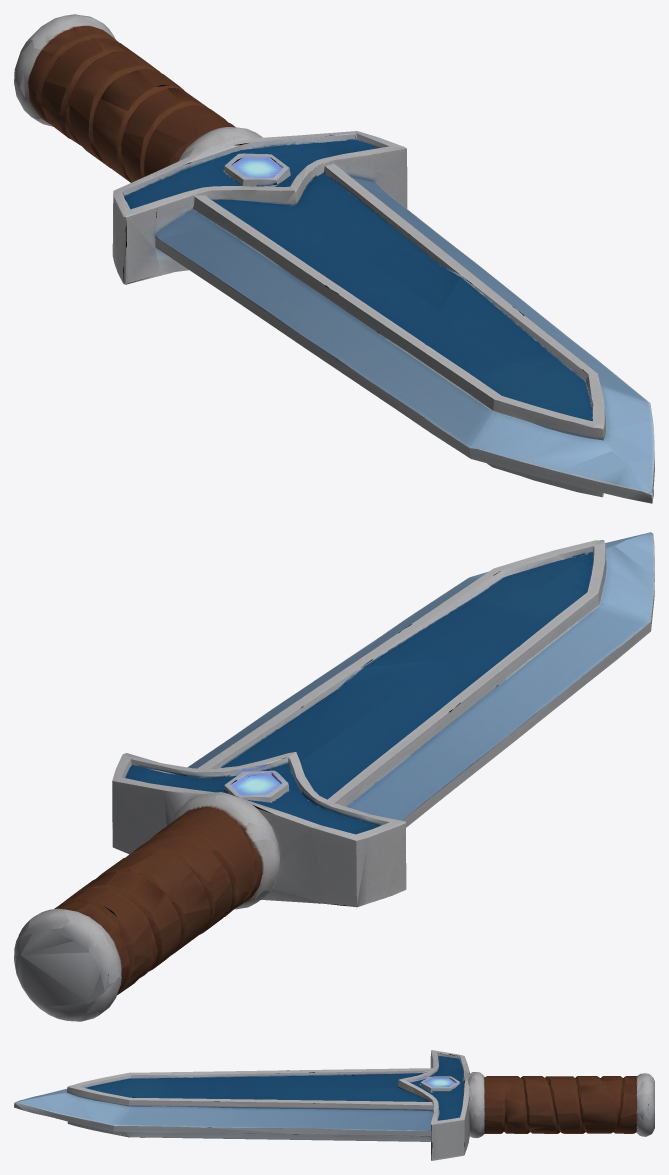
3 views of the same model, one above another, from view 1: azimuth 30°, elevation 25°; view 2: azimuth 150°, elevation 25°; view 3: azimuth 270°, elevation 25° (orthographic). The views are drawn at different scales.
Visible parts, largest first — view 1: db_g2_L; view 2: db_g2_L; view 3: db_g2_L.
Boxes of the visible parts, x1=… form: db_g2_L: x1=14, y1=14, x2=654, y2=503; db_g2_L: x1=14, y1=532, x2=654, y2=1021; db_g2_L: x1=14, y1=1050, x2=654, y2=1160.
Bounding box in the file's own units: 50.53 × 19.15 × 184.
Materials: 1 (1 with a texture image).
